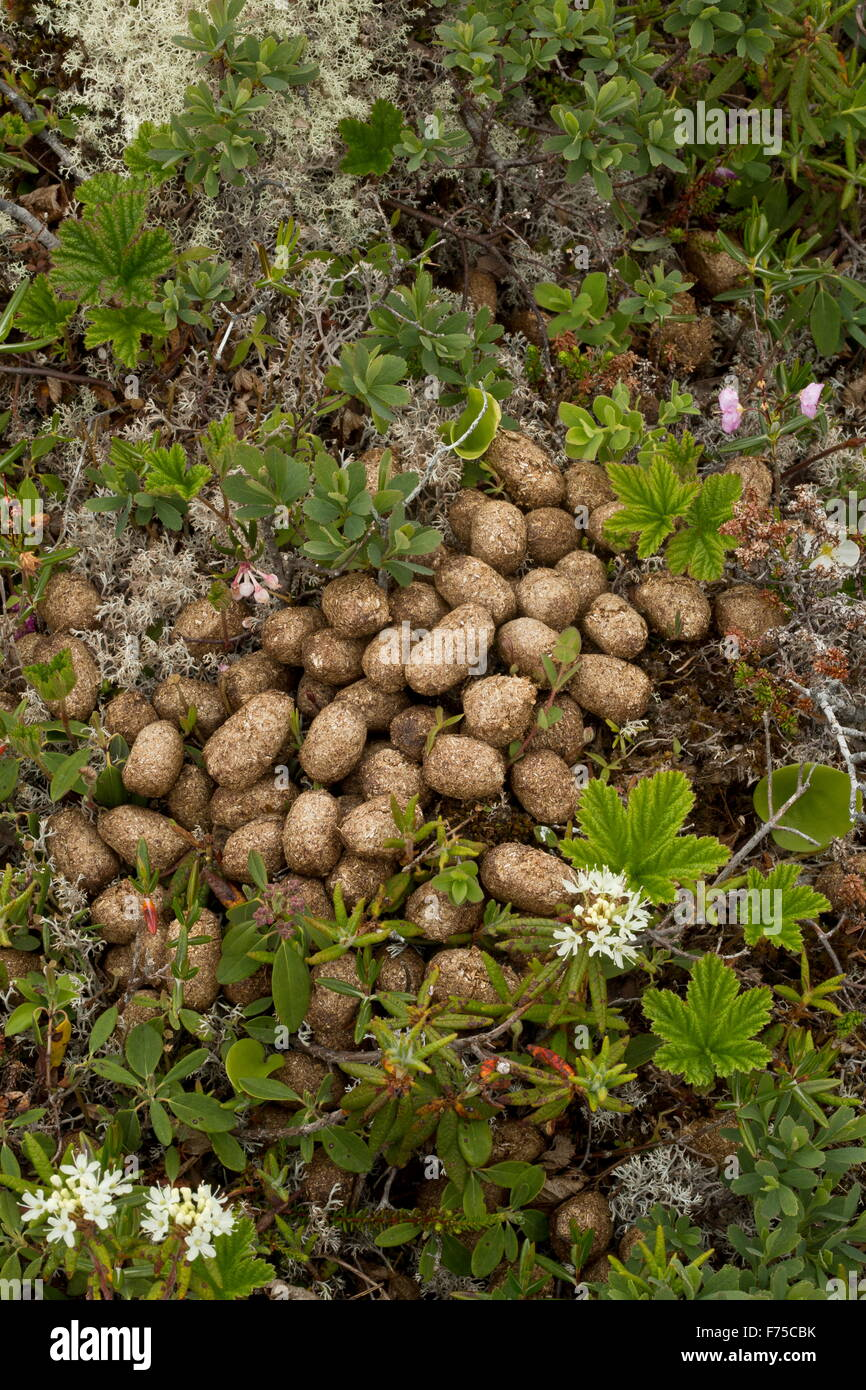Elk: (111, 576, 612, 912), (440, 417, 709, 659)
